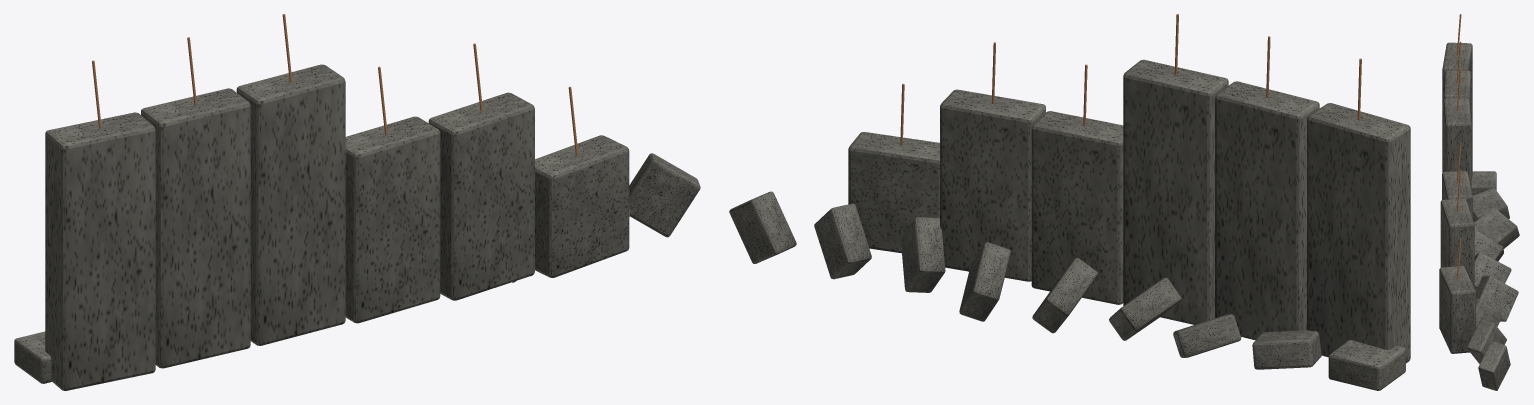
Rendered from ruin_wall.glb.
3 renders of one model, left to right at view 1: azimuth 30°, elevation 25°; view 2: azimuth 150°, elevation 25°; view 3: azimuth 270°, elevation 25°, orthographic. The views are drawn at different scales.
Visible parts, largest first — view 1: Slab_0, Slab_1, Slab_2, Slab_3, Slab_4, Slab_5, Rubble_8, Rubble_0; view 2: Slab_0, Slab_1, Slab_2, Slab_3, Slab_4, Slab_5, Rubble_8, Rubble_7, Rubble_0, Rubble_6, Rubble_5, Rubble_1 (+3 smaller); view 3: Slab_5, Slab_4, Slab_2, Slab_0, Rubble_8, Rubble_5, Rubble_2, Rubble_7, Slab_3, Slab_1, Rubble_4, Rubble_1 (+9 smaller).
Boxes of the visible parts, x1,y1,x2,y2 form: Slab_0: [45, 112, 155, 390]; Slab_1: [141, 88, 250, 368]; Slab_2: [236, 64, 345, 345]; Slab_3: [345, 116, 440, 323]; Slab_4: [428, 92, 534, 300]; Slab_5: [535, 135, 629, 277]; Rubble_8: [629, 153, 700, 237]; Rubble_0: [14, 331, 51, 383]; Slab_0: [1307, 103, 1410, 363]; Slab_1: [1215, 81, 1319, 340]; Slab_2: [1123, 59, 1228, 324]; Slab_3: [1031, 111, 1123, 304]; Slab_4: [940, 89, 1045, 281]; Slab_5: [848, 132, 939, 253]; Rubble_8: [729, 191, 796, 263]; Rubble_7: [814, 203, 871, 279]; Rubble_0: [1328, 340, 1405, 390]; Rubble_6: [901, 217, 945, 292]; Rubble_5: [959, 242, 1010, 321]; Rubble_1: [1252, 330, 1321, 369]; Slab_5: [1439, 266, 1475, 353]; Slab_4: [1440, 198, 1474, 288]; Slab_2: [1443, 98, 1471, 189]; Slab_0: [1442, 42, 1472, 179]; Rubble_8: [1478, 341, 1510, 390]; Rubble_5: [1476, 275, 1518, 321]; Rubble_2: [1474, 207, 1519, 248]; Rubble_7: [1467, 319, 1506, 363]; Slab_3: [1442, 171, 1472, 219]; Slab_1: [1444, 70, 1471, 117]; Rubble_4: [1474, 252, 1511, 290]; Rubble_1: [1473, 188, 1509, 222].
Bounding box in the file's own units: 7.5 × 3.57 × 1.29.
Materials: 3 (2 with a texture image).
